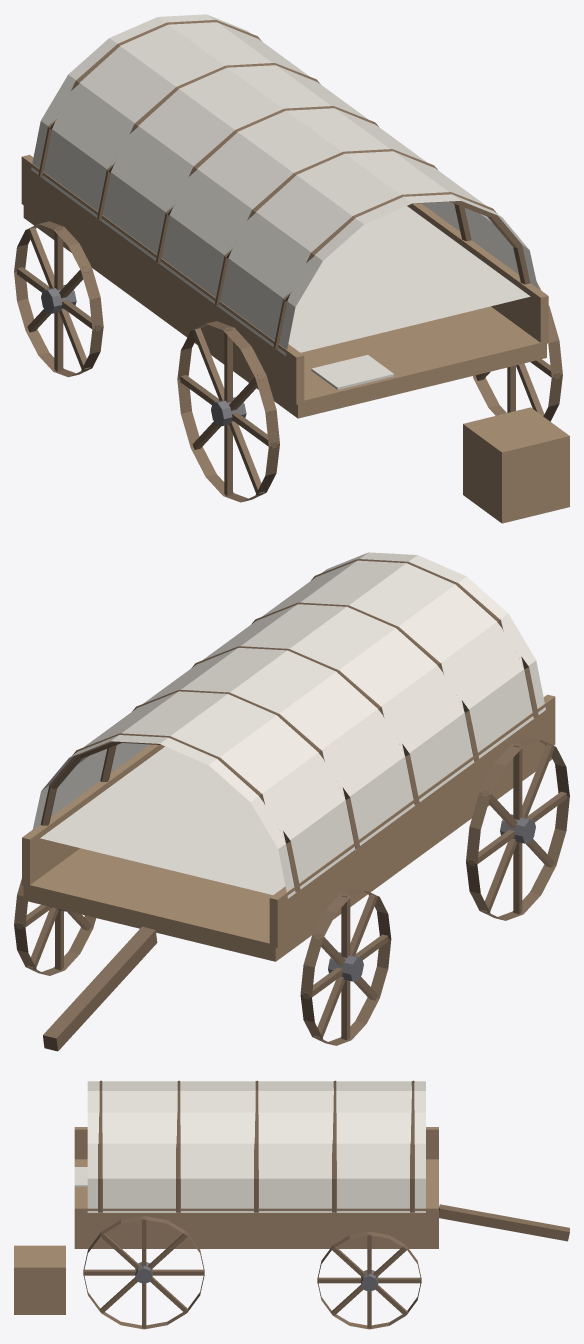
File: expedition_wagon.glb
The picture shows the model from 3 angles, top to bottom: view 1: azimuth 30°, elevation 25°; view 2: azimuth 150°, elevation 25°; view 3: azimuth 270°, elevation 25°; orthographic projection. The views are drawn at different scales.
Visible parts, largest first — view 1: expedition_wagon; view 2: expedition_wagon; view 3: expedition_wagon.
Boxes of the visible parts, left/top/right/bottom form: expedition_wagon: left=14, top=14, right=569, bottom=523; expedition_wagon: left=14, top=552, right=569, bottom=1051; expedition_wagon: left=14, top=1080, right=569, bottom=1329.
Bounding box in the file's own units: 2.7 × 2.44 × 6.41.
